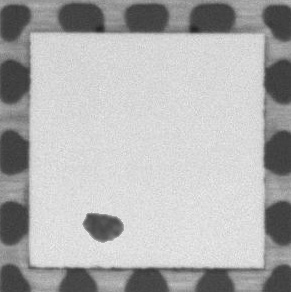DIE_INK: (80, 211, 126, 245)
